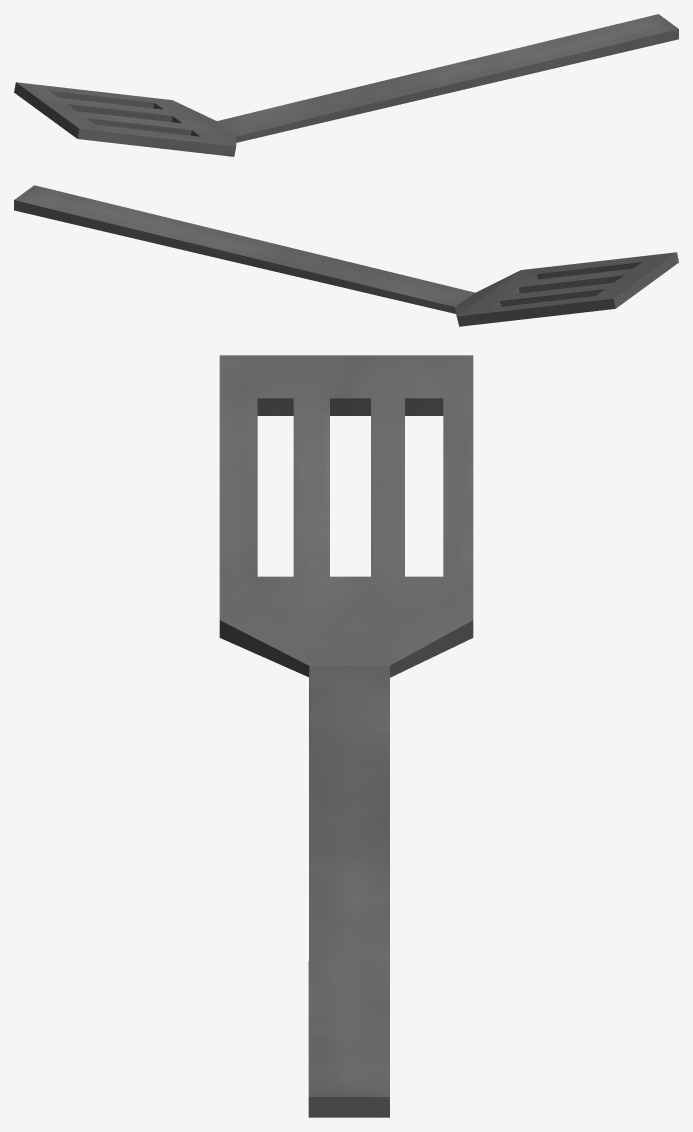
The model's file is Spatula.fbx.
3 renders of one model, top to bottom at view 1: azimuth 30°, elevation 25°; view 2: azimuth 150°, elevation 25°; view 3: azimuth 270°, elevation 25°, orthographic. The views are drawn at different scales.
Visible parts, largest first — view 1: Spatula; view 2: Spatula; view 3: Spatula.
Part boxes in pixels (x1=…): Spatula: x1=14, y1=14, x2=678, y2=156; Spatula: x1=14, y1=185, x2=678, y2=326; Spatula: x1=219, y1=355, x2=473, y2=1117.
Size of the model in its own units: 457 by 55.06 by 80.61.
